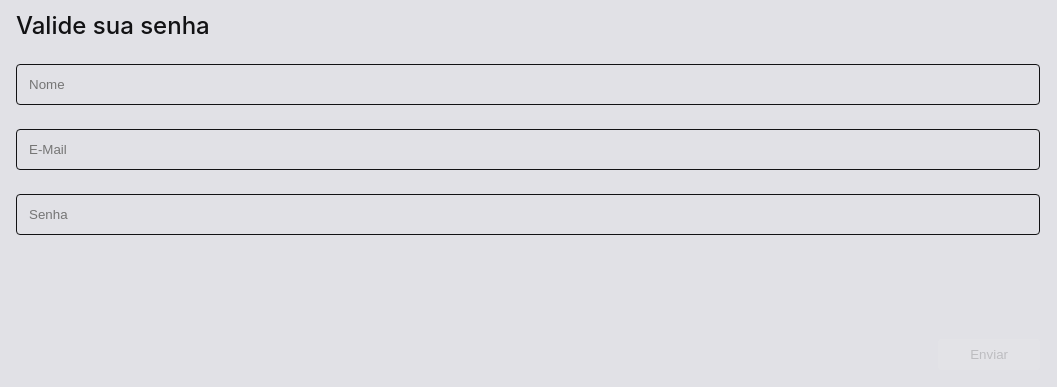
Scenario: Form Submission › should show "Senha válida!" message when all inputs are valid
The image size is (1057, 387).
Type "Teste Name" into the field named "name" at coordinates (528, 85), box [16, 64, 1040, 105]
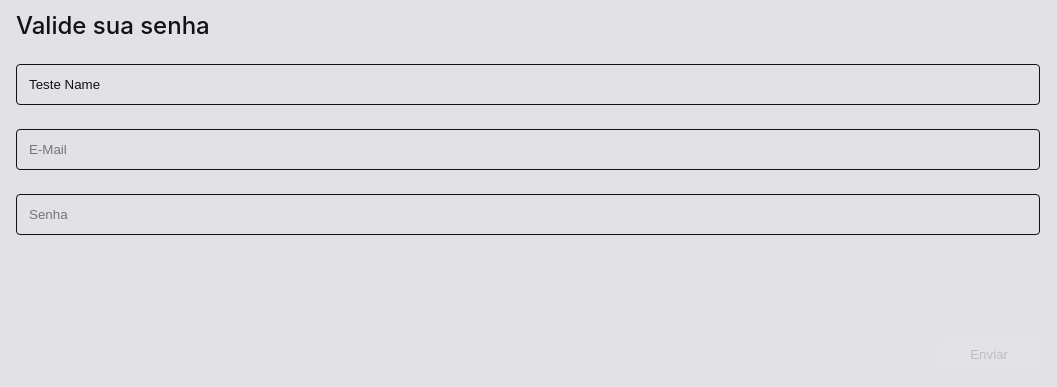
Type "teste@teste.com" into the field named "email" at coordinates (528, 150), box [16, 129, 1040, 170]
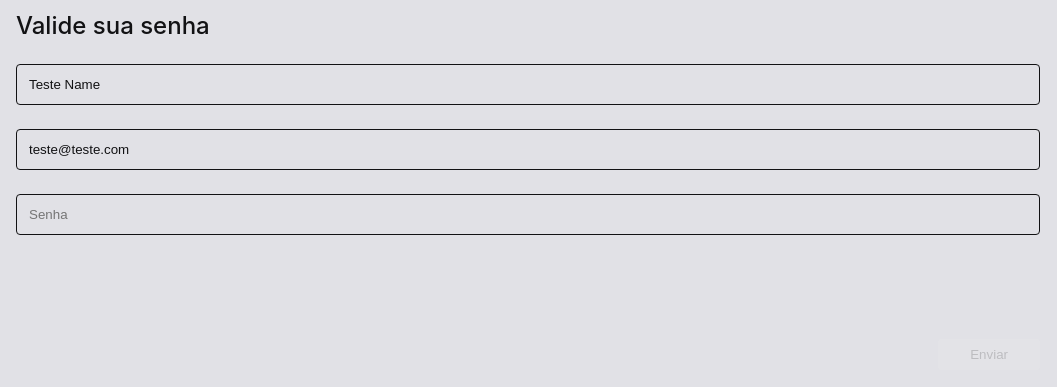
Type "223456" into the field named "password" at coordinates (528, 215), box [16, 194, 1040, 235]
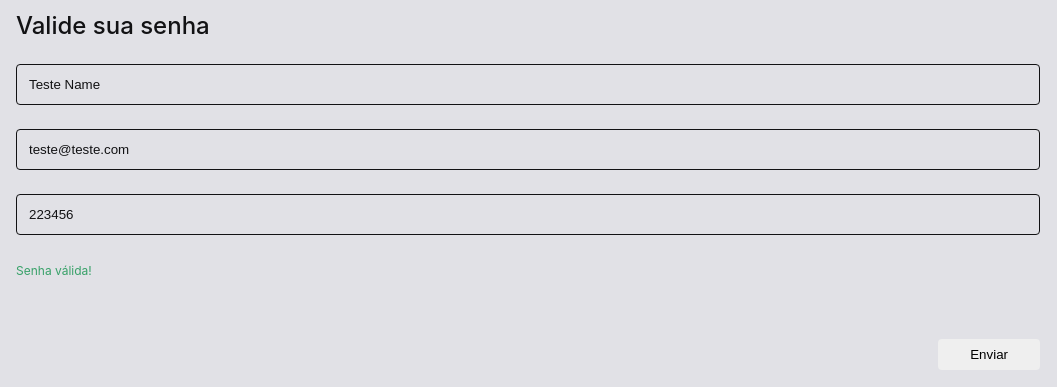
Now the text "Senha válida!" is shown, box [16, 263, 92, 278]
